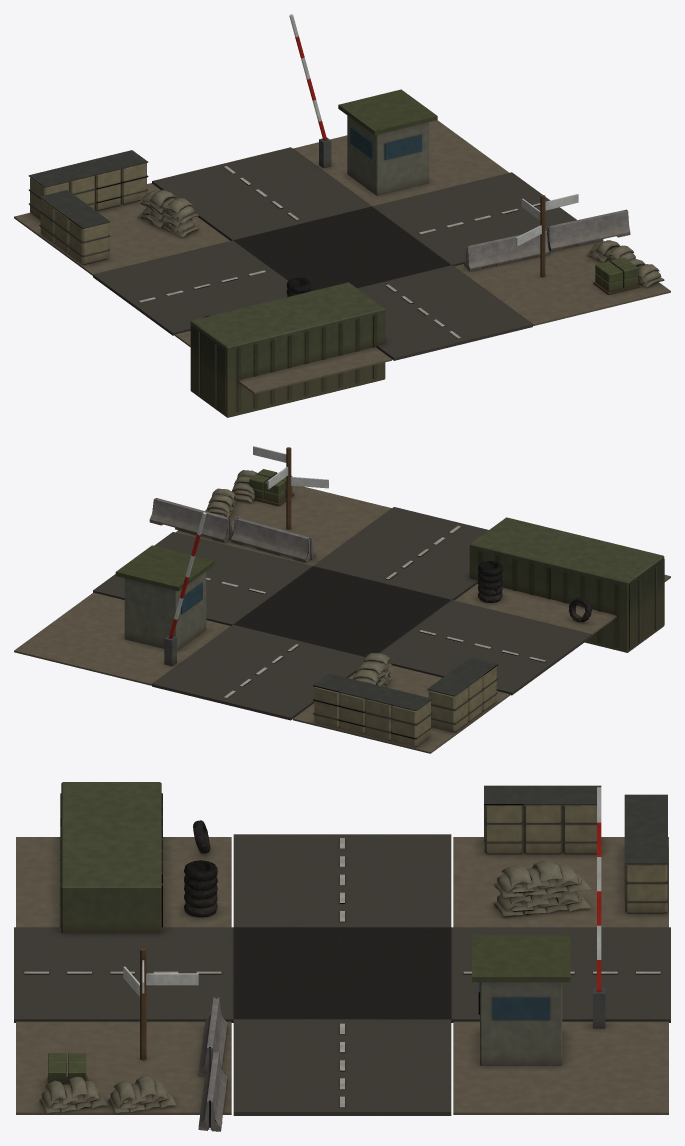
Rendered from supplyroute.glb.
3 renders of one model, top to bottom at view 1: azimuth 30°, elevation 25°; view 2: azimuth 150°, elevation 25°; view 3: azimuth 270°, elevation 25°, orthographic. The views are drawn at different scales.
Parts seen in each view (by area): view 1: hull; view 2: hull; view 3: hull.
Part boxes in pixels (x1=…): hull: x1=14, y1=14, x2=670, y2=417; hull: x1=14, y1=446, x2=670, y2=753; hull: x1=14, y1=782, x2=670, y2=1131.
Size of the model in its own units: 17.49 by 7.1 by 16.
1 material, 1 textured.
